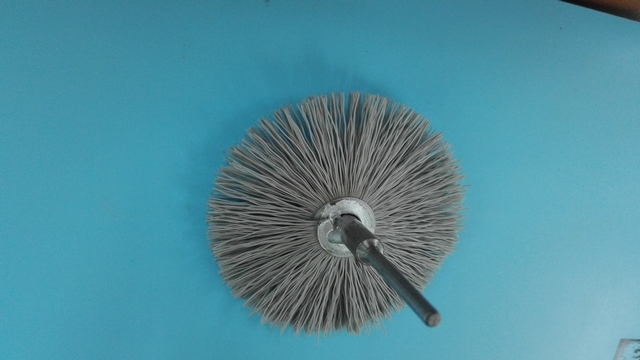TOOL: (179, 77, 481, 349), (234, 85, 507, 335), (273, 79, 472, 330)
